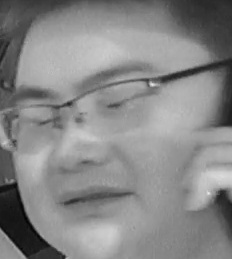glass: (71, 78, 159, 134), (1, 101, 62, 154)
mouth: (53, 182, 127, 217)
